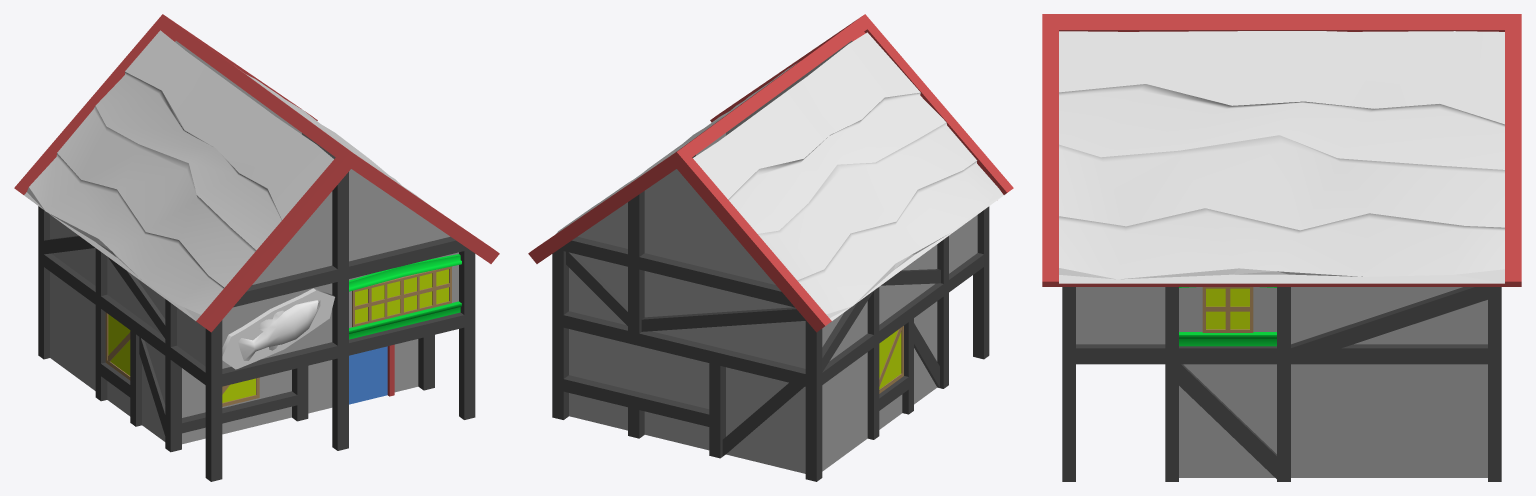
File: Harbor_House_4.fbx
The picture shows the model from 3 angles, left to right: view 1: azimuth 30°, elevation 25°; view 2: azimuth 150°, elevation 25°; view 3: azimuth 270°, elevation 25°; orthographic projection. The views are drawn at different scales.
Parts seen in each view (by area): view 1: Harbor_House_4, Harbor_House_4_Fish; view 2: Harbor_House_4; view 3: Harbor_House_4.
Boxes of the visible parts, left/top/right/bottom form: Harbor_House_4: left=14, top=14, right=499, bottom=481; Harbor_House_4_Fish: left=222, top=288, right=334, bottom=369; Harbor_House_4: left=528, top=14, right=1013, bottom=481; Harbor_House_4: left=1042, top=14, right=1521, bottom=481.
Bounding box in the file's own units: 854 × 833 × 938.
